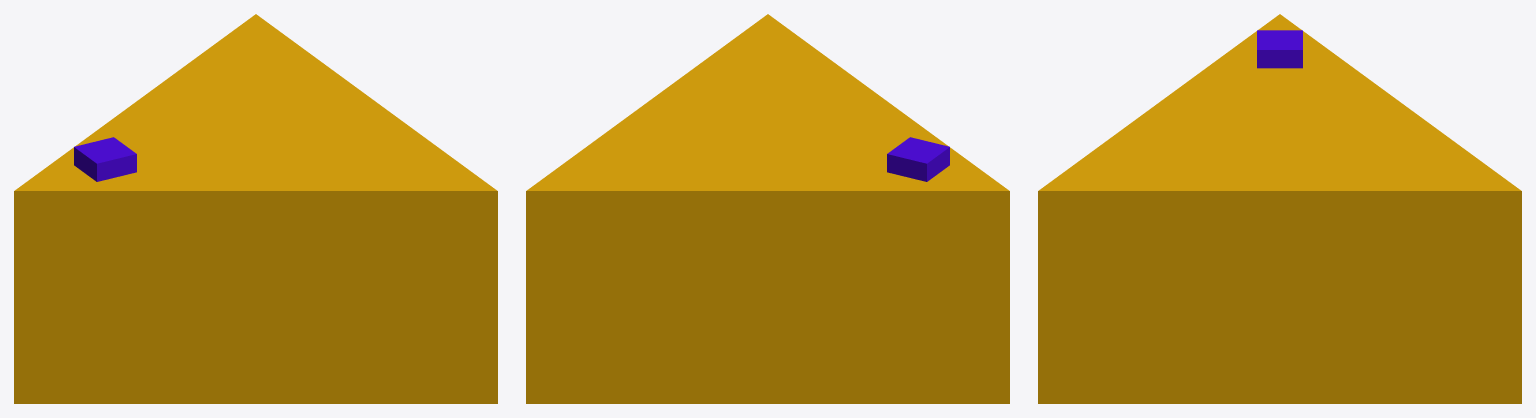
Rendered from 3dTriangle.fbx.
The picture shows the model from 3 angles, left to right: view 1: azimuth 30°, elevation 25°; view 2: azimuth 150°, elevation 25°; view 3: azimuth 270°, elevation 25°; orthographic projection.
Visible parts, largest first — view 1: Cylinder.001; view 2: Cylinder.001; view 3: Cylinder.001.
Boxes of the visible parts, bbox=[...] form: Cylinder.001: bbox=[14, 14, 497, 403]; Cylinder.001: bbox=[526, 14, 1009, 403]; Cylinder.001: bbox=[1038, 14, 1521, 403].
Bounding box in the file's own units: 86.6 × 52.76 × 100.
